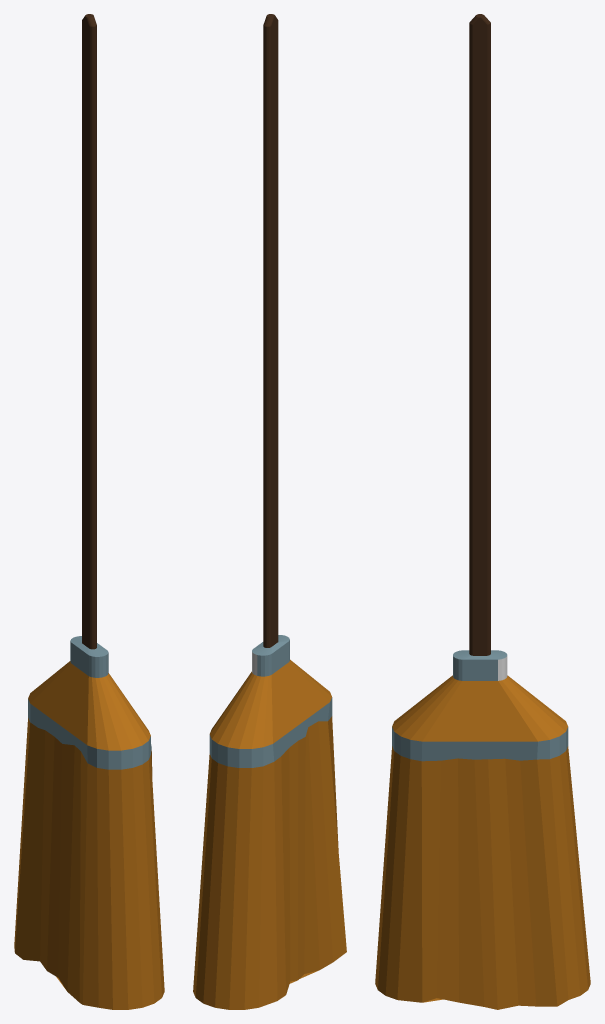
The model's file is Broom.fbx.
3 renders of one model, left to right at view 1: azimuth 30°, elevation 25°; view 2: azimuth 150°, elevation 25°; view 3: azimuth 270°, elevation 25°, orthographic.
Parts seen in each view (by area): view 1: Cylinder; view 2: Cylinder; view 3: Cylinder.
Boxes of the visible parts, left/top/right/bottom form: Cylinder: left=14, top=14, right=164, bottom=1009; Cylinder: left=193, top=14, right=346, bottom=1009; Cylinder: left=375, top=14, right=590, bottom=1009.
Bounding box in the file's own units: 15.58 × 170 × 34.07.
